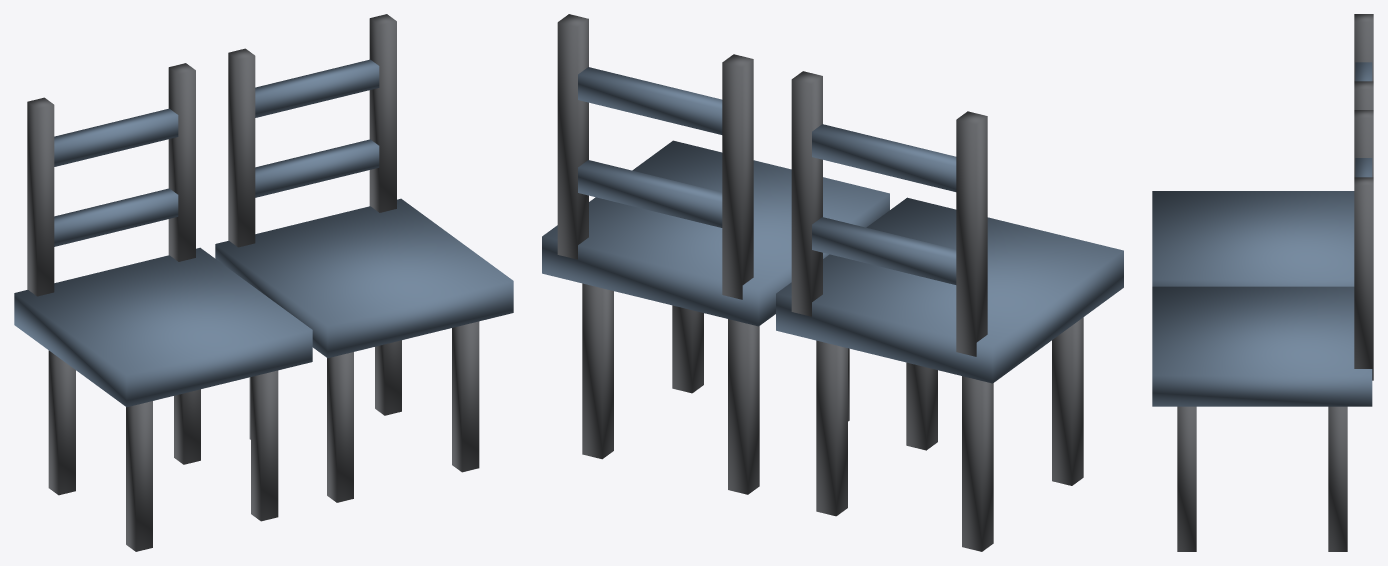
The model's file is courtroom_spectator_chair__cluster.glb.
The picture shows the model from 3 angles, left to right: view 1: azimuth 30°, elevation 25°; view 2: azimuth 150°, elevation 25°; view 3: azimuth 270°, elevation 25°; orthographic projection. The views are drawn at different scales.
Parts seen in each view (by area): view 1: world; view 2: world; view 3: world.
Part boxes in pixels (x1=…): world: x1=14, y1=14, x2=513, y2=551; world: x1=542, y1=14, x2=1123, y2=551; world: x1=1152, y1=14, x2=1373, y2=551.
Bounding box in the file's own units: 1.02 × 0.949 × 0.5136.
